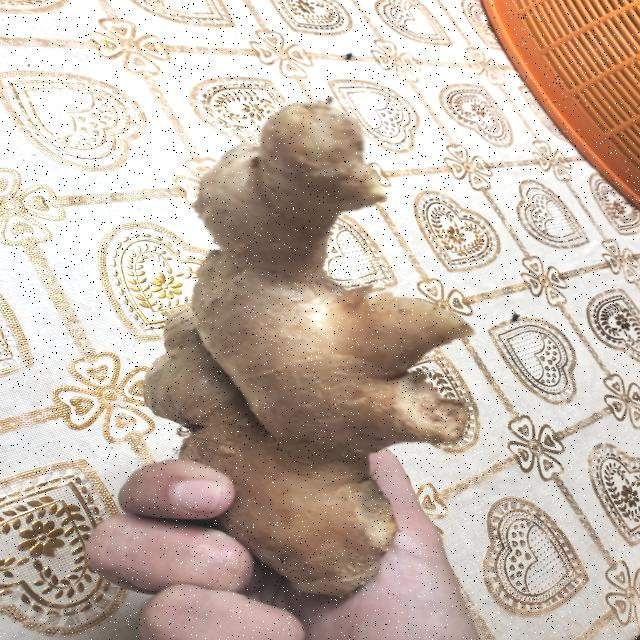ginger: (133, 92, 458, 588)
